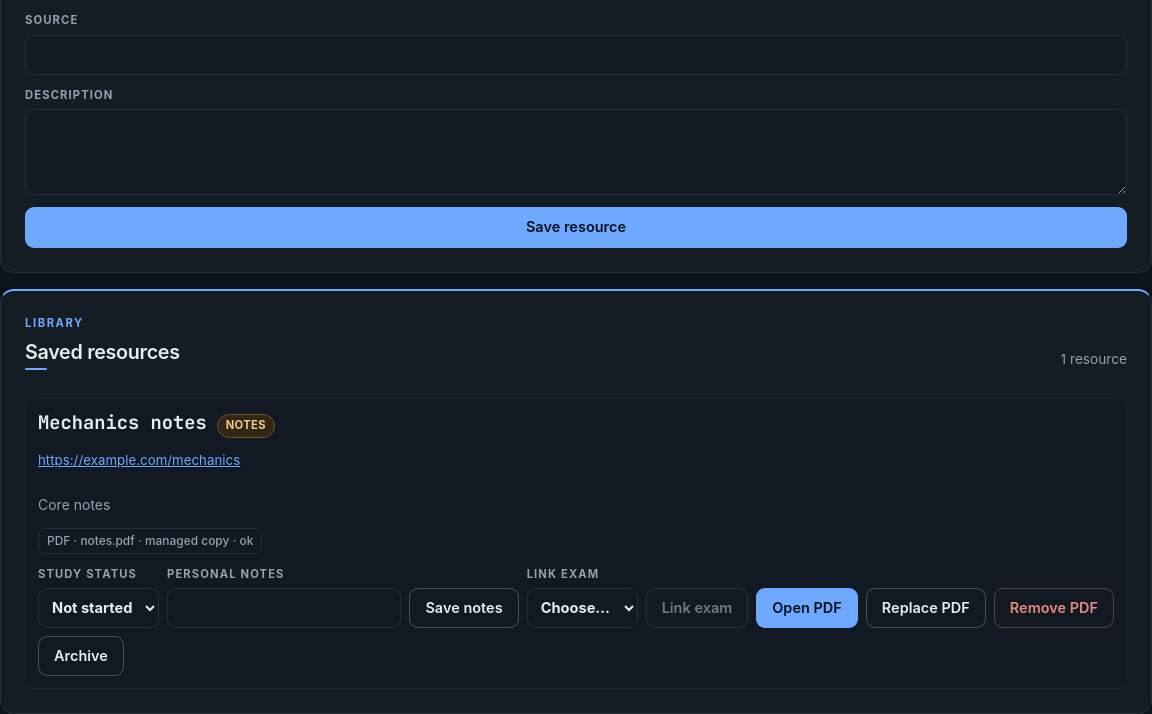
Scenario: V2 resources › opens an imported managed PDF without exposing a filesystem path
(page scrolled)
Expected: the text "Mechanics notes" is shown, [38,411,207,434]
Click the button "Open PDF": (807,608) [756,588,858,628]
(page scrolled)
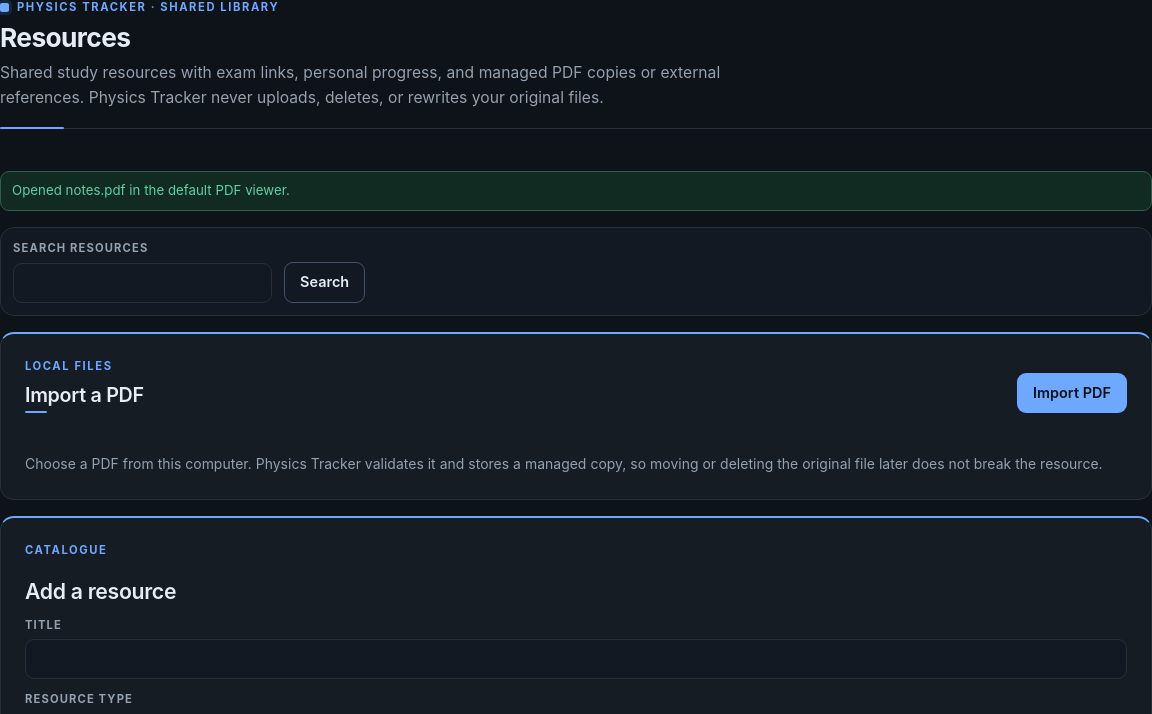
Expected: the text "Opened notes.pdf in the default PDF viewer." is shown, [0,171,1151,211]
